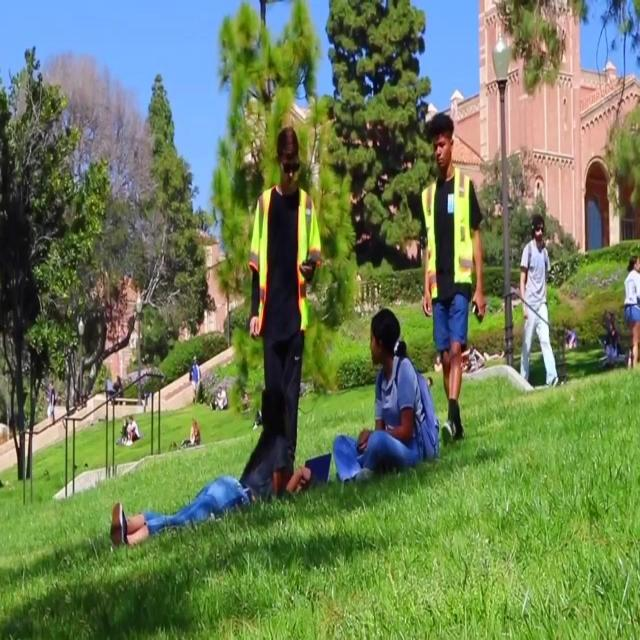Vest: (247, 184, 321, 333), (418, 167, 476, 296)
